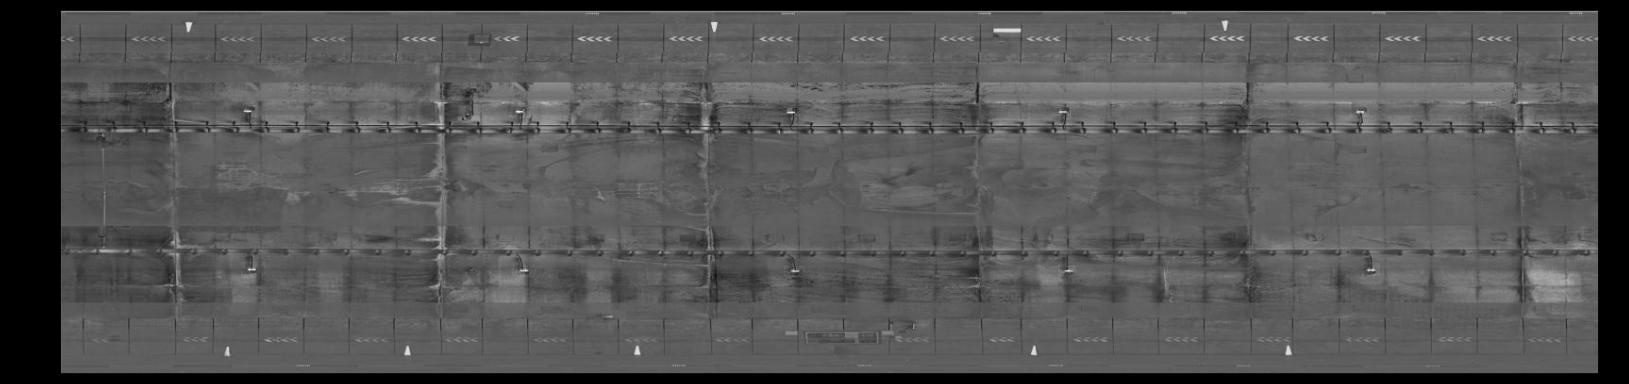light: (241, 262, 266, 278), (509, 107, 531, 118), (512, 265, 534, 276), (1362, 263, 1380, 276), (1058, 265, 1077, 276), (240, 105, 258, 117), (784, 266, 805, 276), (1348, 108, 1369, 117), (783, 107, 800, 118), (1052, 107, 1071, 116)
